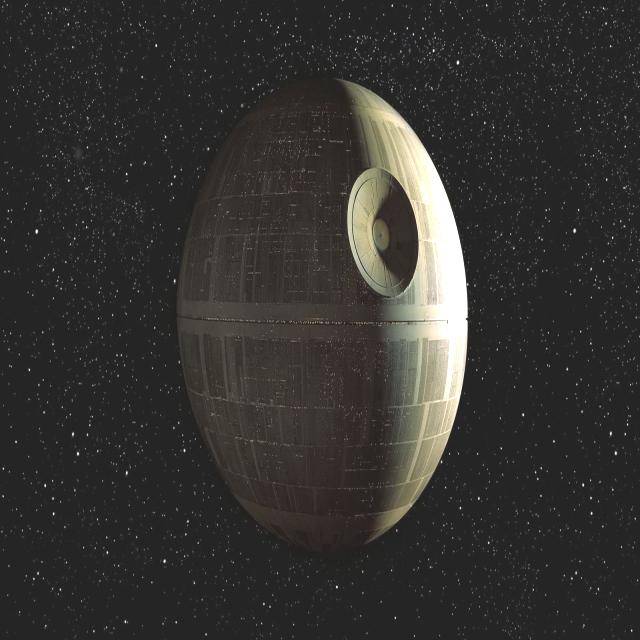deathstar: (175, 72, 470, 562)
